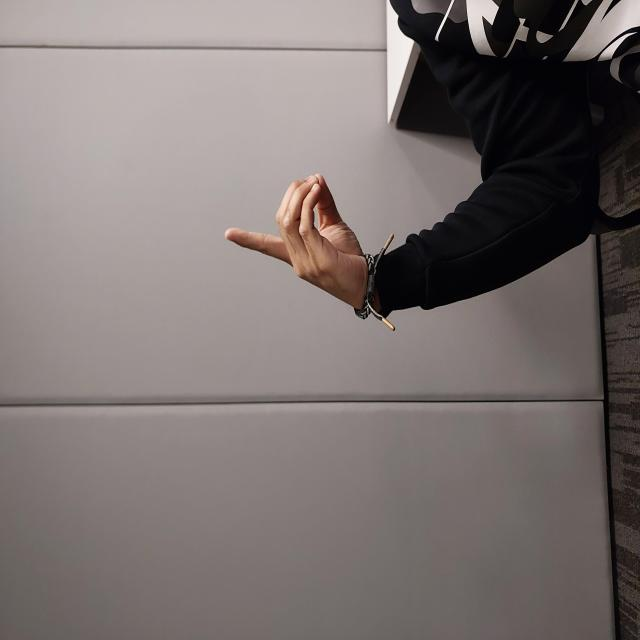D: (332, 223, 468, 369)
